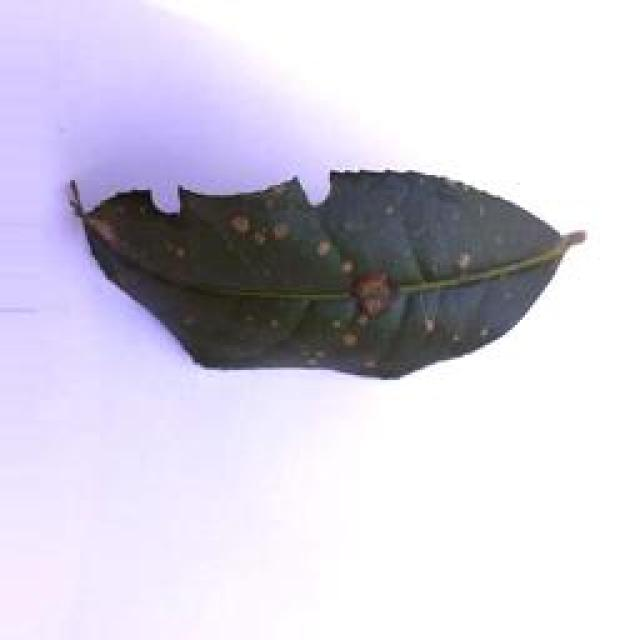Algal Leaf Spot: (52, 131, 604, 397)
